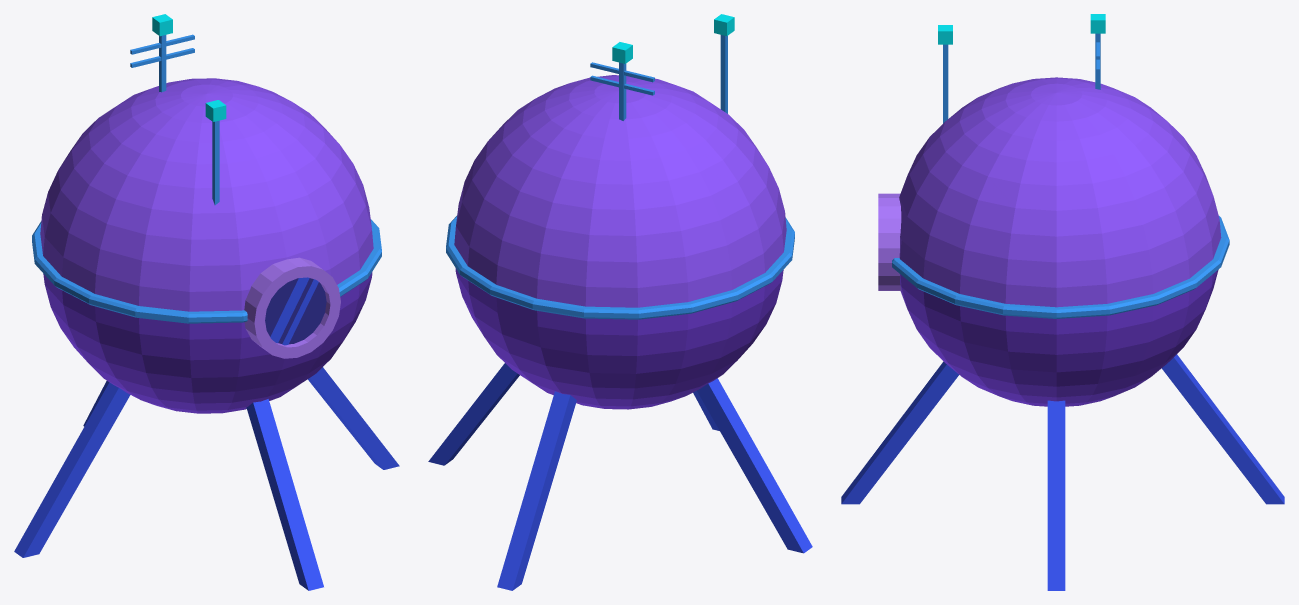
Rendered from Building_014_a.fbx.
The picture shows the model from 3 angles, left to right: view 1: azimuth 30°, elevation 25°; view 2: azimuth 150°, elevation 25°; view 3: azimuth 270°, elevation 25°; orthographic projection.
Parts seen in each view (by area): view 1: Building_014_a_h; view 2: Building_014_a_h; view 3: Building_014_a_h.
Part boxes in pixels (x1,y1,x2,y2): Building_014_a_h: [14, 14, 399, 590]; Building_014_a_h: [428, 14, 812, 590]; Building_014_a_h: [841, 14, 1284, 590].
Size of the model in its own units: 16.33 by 19.91 by 16.94.
